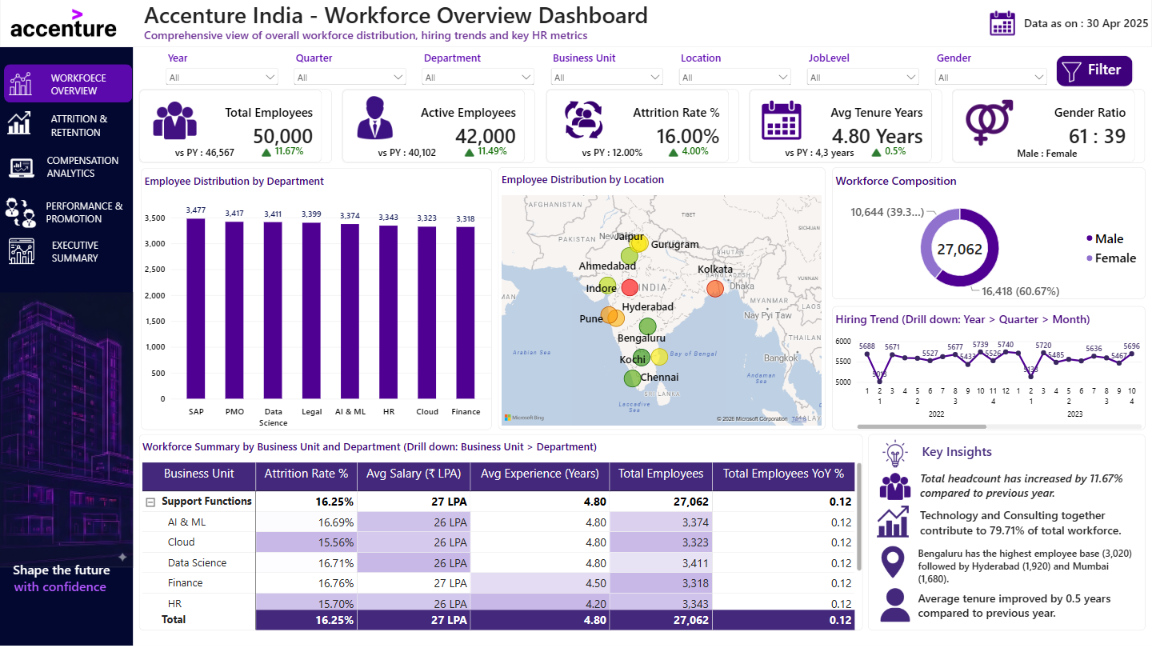

What the dashboard file says about the page in this screenshot:
{"tool":"powerbi","page":{"name":"Workforce Overview","canvas":[1920,1080],"ordinal":0},"visuals":[{"type":"shape","box":[0,0,1920,80],"z":0,"group":"g1"},{"type":"group","id":"g1","title":"base","box":[0,0,1919.7,1080.3],"z":0},{"type":"image","box":[16.9,13.8,178.5,52.3],"z":0,"group":"g15"},{"type":"slicer","fields":{"Values":["DimDate.Year"]},"box":[271.2,84.8,197,57.6],"z":0,"group":"g19"},{"type":"shape","box":[1760.6,93.9,128.8,53],"z":0,"group":"g22"},{"type":"group","id":"g2","title":"Button","box":[6.7,109.2,215.4,346.5],"z":0,"group":"g7"},{"type":"actionButton","title":"Button 1","box":[7,109.2,213.7,64],"z":0,"group":"g2"},{"type":"image","box":[9.1,122.7,50.7,38.4],"z":0,"group":"g4"},{"type":"group","id":"g3","title":"kpi 1","box":[232.3,149.2,321.5,123.1],"z":0,"group":"g24"},{"type":"cardVisual","fields":{"Data":["Measure Table.Total Employees"]},"box":[232.3,149.2,321.5,123.1],"z":0,"group":"g3"},{"type":"cardVisual","fields":{"Data":["Measure Table.Active Employees"]},"box":[571.1,149.2,321.5,123.1],"z":0,"group":"g5"},{"type":"cardVisual","fields":{"Data":["Measure Table.Attrition Rate %"]},"box":[910,149.2,321.5,123.1],"z":0,"group":"g8"},{"type":"cardVisual","fields":{"Data":["Measure Table.Avg Tenure Years"]},"box":[1248.8,149.2,321.5,123.1],"z":0,"group":"g11"},{"type":"cardVisual","fields":{"Data":["Measure Table.Gender Ratio Display"]},"box":[1587.7,149.2,321.5,123.1],"z":0,"group":"g16"},{"type":"image","box":[9.1,188.1,46.1,38.4],"z":0,"group":"g9"},{"type":"image","box":[9.1,259.4,55.3,46.1],"z":0,"group":"g12"},{"type":"image","box":[9.1,331.4,52.3,52.3],"z":0,"group":"g17"},{"type":"image","box":[9.1,399.1,55.3,43],"z":0,"group":"g20"},{"type":"image","box":[0,456.1,221.2,522.7],"z":0,"group":"g13"},{"type":"shape","box":[1447,725.8,462.1,327.3],"z":0,"group":"g23"},{"type":"image","box":[1462.2,731.9,60.6,51.5],"z":0,"group":"g6"},{"type":"image","box":[1462.2,783.4,60.6,51.5],"z":0,"group":"g10"},{"type":"image","box":[1462.1,843.7,53,54.5],"z":0,"group":"g14"},{"type":"image","box":[1462.1,911,53,56.1],"z":0,"group":"g18"},{"type":"image","box":[1460.6,982.8,63.6,56.1],"z":0,"group":"g21"},{"type":"textbox","box":[240,0,849.2,52.3],"z":1000,"group":"g15"},{"type":"shape","box":[0,80,221.5,1000],"z":1000,"group":"g1"},{"type":"slicer","fields":{"Values":["DimDate.Quarter"]},"box":[484.8,84.8,197,57.6],"z":1000,"group":"g19"},{"type":"image","box":[1760.6,104.5,53,33.3],"z":1000,"group":"g22"},{"type":"group","id":"g4","title":"PAGE 1","box":[9.1,120.7,195.8,56.7],"z":1000,"group":"g7"},{"type":"textbox","box":[85.7,120.7,119.2,56.7],"z":1000,"group":"g4"},{"type":"group","id":"g5","title":"kpi 2","box":[571.1,149.2,321.5,123.1],"z":1000,"group":"g24"},{"type":"image","box":[584.7,161.2,83.1,72.3],"z":1000,"group":"g5"},{"type":"image","box":[939.2,161.2,64.6,78.5],"z":1000,"group":"g8"},{"type":"image","box":[247.9,161.5,89.9,72.3],"z":1000,"group":"g3"},{"type":"image","box":[1609.4,165.5,81.8,78.8],"z":1000,"group":"g16"},{"type":"image","box":[1264.4,167.3,78.5,66.2],"z":1000,"group":"g11"},{"type":"actionButton","title":"Button 2","box":[8.4,181.7,213.7,64],"z":1000,"group":"g2"},{"type":"textbox","box":[85.8,190.3,119.2,56.7],"z":1000,"group":"g9"},{"type":"textbox","box":[79.8,257.7,141.4,63],"z":1000,"group":"g12"},{"type":"textbox","box":[78.2,334.6,138.4,53.8],"z":1000,"group":"g17"},{"type":"textbox","box":[87.8,399.4,119.2,56.7],"z":1000,"group":"g20"},{"type":"group","id":"g6","title":"key","box":[1462.2,731.9,216.7,51.5],"z":1000,"group":"g23"},{"type":"textbox","box":[1536.4,738,142.4,34.8],"z":1000,"group":"g6"},{"type":"textbox","box":[1533.2,785.6,371.2,68.2],"z":1000,"group":"g10"},{"type":"textbox","box":[1533.2,847.1,371.4,74.2],"z":1000,"group":"g14"},{"type":"textbox","box":[1530.2,912.8,371.4,74.2],"z":1000,"group":"g18"},{"type":"textbox","box":[21.2,934.9,174.2,33.3],"z":1000,"group":"g13"},{"type":"textbox","box":[1530.2,986.4,371.4,74.2],"z":1000,"group":"g21"},{"type":"textbox","box":[240,46.2,784.6,33.8],"z":2000,"group":"g15"},{"type":"slicer","fields":{"Values":["DimDepartment.DepartmentName"]},"box":[698.5,84.8,197,57.6],"z":2000,"group":"g19"},{"type":"textbox","box":[1813.7,100,63.6,36.4],"z":2000,"group":"g22"},{"type":"group","id":"g7","title":"pages","box":[6.7,109.2,215.4,346.8],"z":2000},{"type":"group","id":"g8","title":"kpi 3","box":[910,149.2,321.5,123.1],"z":2000,"group":"g24"},{"type":"group","id":"g9","title":"PAGE 2","box":[9.1,188.1,196,58.9],"z":2000,"group":"g7"},{"type":"textbox","box":[292.8,243,131.4,26.2],"z":2000,"group":"g3"},{"type":"textbox","box":[631.6,243,131.4,26.2],"z":2000,"group":"g5"},{"type":"textbox","box":[970.5,243,131.4,26.2],"z":2000,"group":"g8"},{"type":"textbox","box":[1309.3,243,131.4,26.2],"z":2000,"group":"g11"},{"type":"textbox","box":[1695.7,244.3,112.1,22.7],"z":2000,"group":"g16"},{"type":"actionButton","title":"Button 3","box":[6.7,250,213.7,64],"z":2000,"group":"g2"},{"type":"group","id":"g10","title":"key","box":[1462.2,783.4,442.2,70.4],"z":2000,"group":"g23"},{"type":"textbox","box":[22.7,962.2,178.8,33.3],"z":2000,"group":"g13"},{"type":"actionButton","box":[1756.7,93.3,131.7,55],"z":2500,"group":"g22"},{"type":"image","box":[1650.7,18.5,41.5,43.1],"z":3000,"group":"g15"},{"type":"slicer","fields":{"Values":["DimDepartment.Business Unit"]},"box":[912.1,84.8,197,57.6],"z":3000,"group":"g19"},{"type":"group","id":"g11","title":"kpi 4","box":[1248.8,149.2,321.5,123.1],"z":3000,"group":"g24"},{"type":"image","box":[431.1,246.1,27.7,18.5],"z":3000,"group":"g3"},{"type":"image","box":[769.9,246.1,27.7,18.5],"z":3000,"group":"g5"},{"type":"image","box":[1108.8,246.1,27.7,18.5],"z":3000,"group":"g8"},{"type":"image","box":[1447.6,246.1,27.7,18.5],"z":3000,"group":"g11"},{"type":"group","id":"g12","title":"PAGE 3","box":[9.1,257.7,212.2,63],"z":3000,"group":"g7"},{"type":"actionButton","title":"Button 4","box":[6.7,320,213.7,64],"z":3000,"group":"g2"},{"type":"group","id":"g13","title":"left side pic","box":[0,456.1,221.2,539.4],"z":3000},{"type":"group","id":"g14","title":"key","box":[1462.1,843.7,442.5,77.6],"z":3000,"group":"g23"},{"type":"group","id":"g15","title":"header section","box":[16.9,0,1903.1,80],"z":4000},{"type":"textbox","box":[1706.1,26.2,213.8,30.8],"z":4000,"group":"g15"},{"type":"slicer","fields":{"Values":["DimLocation.City"]},"box":[1125.7,84.8,197,57.6],"z":4000,"group":"g19"},{"type":"group","id":"g16","title":"kpi 4","box":[1587.7,149.2,321.5,123.1],"z":4000,"group":"g24"},{"type":"textbox","box":[458.8,241.5,64,26.2],"z":4000,"group":"g3"},{"type":"textbox","box":[797.6,241.5,64,26.2],"z":4000,"group":"g5"},{"type":"textbox","box":[1136.5,241.5,64,26.2],"z":4000,"group":"g8"},{"type":"textbox","box":[1475.3,241.5,64,26.2],"z":4000,"group":"g11"},{"type":"group","id":"g17","title":"PAGE 4","box":[9.1,331.4,207.4,57],"z":4000,"group":"g7"},{"type":"actionButton","title":"Button 5","box":[6.7,391.7,213.7,64],"z":4000,"group":"g2"},{"type":"group","id":"g18","title":"key","box":[1462.1,911,439.5,76],"z":4000,"group":"g23"},{"type":"group","id":"g19","title":"slicer","box":[271.2,84.8,1478.8,57.6],"z":5000},{"type":"slicer","fields":{"Values":["DimJobLevel.JobLevel"]},"box":[1339.4,84.8,197,57.6],"z":5000,"group":"g19"},{"type":"group","id":"g20","title":"PAGE 5","box":[9.1,399.1,197.9,57],"z":5000,"group":"g7"},{"type":"group","id":"g21","title":"key","box":[1460.6,982.8,441,77.8],"z":5000,"group":"g23"},{"type":"slicer","fields":{"Values":["DimEmployee.Gender"]},"box":[1553,84.8,197,57.6],"z":6000,"group":"g19"},{"type":"group","id":"g22","title":"filter","box":[1756.7,93.3,132.7,55],"z":6000},{"type":"clusteredColumnChart","title":"Employee Distribution by Department","fields":{"Category":["DimDepartment.DepartmentName"],"Y":["Measure Table.Total Employees"]},"box":[234.8,281.8,584.8,436.4],"z":7000},{"type":"map","title":"Employee Distribution by Location","fields":{"Category":["DimLocation.City"],"Size":["Measure Table.Total Employees"]},"box":[830.3,280.3,545.5,437.9],"z":8000},{"type":"donutChart","title":"Workforce Composition","fields":{"Category":["DimEmployee.Gender"],"Y":["Measure Table.Total Employees"]},"box":[1386.4,280.3,522.7,219.7],"z":9000},{"type":"lineChart","title":"Hiring Trend (Drill down: Year > Quarter > Month)","fields":{"Category":["DimDate.Year","DimDate.Quarter","DimDate.Month"],"Y":["Measure Table.New Hires"]},"box":[1386.4,512.1,522.7,206.1],"z":10000},{"type":"pivotTable","title":"Workforce Summary by Business Unit and Department (Drill down: Business Unit > Department)","fields":{"Rows":["DimDepartment.Business Unit","DimDepartment.DepartmentName"],"Values":["Measure Table.Attrition Rate %","Measure Table.Avg Salary (₹ LPA)","Measure Table.Avg Experience (Years)","Measure Table.Total Employees","Measure Table.Total Employees YoY %"]},"box":[231.8,725.8,1206.1,327.3],"z":11000},{"type":"group","id":"g23","title":"key insights","box":[1447,725.8,462.1,334.8],"z":12000},{"type":"group","id":"g24","title":"KPI","box":[232.3,149.2,1676.9,123.1],"z":13000}]}

Visuals, with their boxes on the page's 1920x1080 design canvas (x1, y1, x2, y2). These are canvas units, not pixel positions in the 1152x646 screenshot, which may show the page scaled, cropped or inside an application window:
shape: rect(0, 0, 1920, 80)
"base" group: rect(0, 0, 1920, 1080)
image: rect(17, 14, 195, 66)
slicer - DimDate.Year: rect(271, 85, 468, 142)
shape: rect(1761, 94, 1889, 147)
"Button" group: rect(7, 109, 222, 456)
"Button 1" actionButton: rect(7, 109, 221, 173)
image: rect(9, 123, 60, 161)
"kpi 1" group: rect(232, 149, 554, 272)
cardVisual - Measure Table.Total Employees: rect(232, 149, 554, 272)
cardVisual - Measure Table.Active Employees: rect(571, 149, 893, 272)
cardVisual - Measure Table.Attrition Rate %: rect(910, 149, 1232, 272)
cardVisual - Measure Table.Avg Tenure Years: rect(1249, 149, 1570, 272)
cardVisual - Measure Table.Gender Ratio Display: rect(1588, 149, 1909, 272)
image: rect(9, 188, 55, 226)
image: rect(9, 259, 64, 306)
image: rect(9, 331, 61, 384)
image: rect(9, 399, 64, 442)
image: rect(0, 456, 221, 979)
shape: rect(1447, 726, 1909, 1053)
image: rect(1462, 732, 1523, 783)
image: rect(1462, 783, 1523, 835)
image: rect(1462, 844, 1515, 898)
image: rect(1462, 911, 1515, 967)
image: rect(1461, 983, 1524, 1039)
textbox: rect(240, 0, 1089, 52)
shape: rect(0, 80, 222, 1080)
slicer - DimDate.Quarter: rect(485, 85, 682, 142)
image: rect(1761, 104, 1814, 138)
"PAGE 1" group: rect(9, 121, 205, 177)
textbox: rect(86, 121, 205, 177)
"kpi 2" group: rect(571, 149, 893, 272)
image: rect(585, 161, 668, 234)
image: rect(939, 161, 1004, 240)
image: rect(248, 162, 338, 234)
image: rect(1609, 166, 1691, 244)
image: rect(1264, 167, 1343, 234)
"Button 2" actionButton: rect(8, 182, 222, 246)
textbox: rect(86, 190, 205, 247)
textbox: rect(80, 258, 221, 321)
textbox: rect(78, 335, 217, 388)
textbox: rect(88, 399, 207, 456)
"key" group: rect(1462, 732, 1679, 783)
textbox: rect(1536, 738, 1679, 773)
textbox: rect(1533, 786, 1904, 854)
textbox: rect(1533, 847, 1905, 921)
textbox: rect(1530, 913, 1902, 987)
textbox: rect(21, 935, 195, 968)
textbox: rect(1530, 986, 1902, 1061)
textbox: rect(240, 46, 1025, 80)
slicer - DimDepartment.DepartmentName: rect(698, 85, 896, 142)
textbox: rect(1814, 100, 1877, 136)
"pages" group: rect(7, 109, 222, 456)
"kpi 3" group: rect(910, 149, 1232, 272)
"PAGE 2" group: rect(9, 188, 205, 247)
textbox: rect(293, 243, 424, 269)
textbox: rect(632, 243, 763, 269)
textbox: rect(970, 243, 1102, 269)
textbox: rect(1309, 243, 1441, 269)
textbox: rect(1696, 244, 1808, 267)
"Button 3" actionButton: rect(7, 250, 220, 314)
"key" group: rect(1462, 783, 1904, 854)
textbox: rect(23, 962, 202, 996)
actionButton: rect(1757, 93, 1888, 148)
image: rect(1651, 18, 1692, 62)
slicer - DimDepartment.Business Unit: rect(912, 85, 1109, 142)
"kpi 4" group: rect(1249, 149, 1570, 272)
image: rect(431, 246, 459, 265)
image: rect(770, 246, 798, 265)
image: rect(1109, 246, 1136, 265)
image: rect(1448, 246, 1475, 265)
"PAGE 3" group: rect(9, 258, 221, 321)
"Button 4" actionButton: rect(7, 320, 220, 384)
"left side pic" group: rect(0, 456, 221, 996)
"key" group: rect(1462, 844, 1905, 921)
"header section" group: rect(17, 0, 1920, 80)
textbox: rect(1706, 26, 1920, 57)
slicer - DimLocation.City: rect(1126, 85, 1323, 142)
"kpi 4" group: rect(1588, 149, 1909, 272)
textbox: rect(459, 242, 523, 268)
textbox: rect(798, 242, 862, 268)
textbox: rect(1136, 242, 1200, 268)
textbox: rect(1475, 242, 1539, 268)
"PAGE 4" group: rect(9, 331, 216, 388)
"Button 5" actionButton: rect(7, 392, 220, 456)
"key" group: rect(1462, 911, 1902, 987)
"slicer" group: rect(271, 85, 1750, 142)
slicer - DimJobLevel.JobLevel: rect(1339, 85, 1536, 142)
"PAGE 5" group: rect(9, 399, 207, 456)
"key" group: rect(1461, 983, 1902, 1061)
slicer - DimEmployee.Gender: rect(1553, 85, 1750, 142)
"filter" group: rect(1757, 93, 1889, 148)
"Employee Distribution by Department" clusteredColumnChart: rect(235, 282, 820, 718)
"Employee Distribution by Location" map: rect(830, 280, 1376, 718)
"Workforce Composition" donutChart: rect(1386, 280, 1909, 500)
"Hiring Trend (Drill down: Year > Quarter > Month)" lineChart: rect(1386, 512, 1909, 718)
"Workforce Summary by Business Unit and Department (Drill down: Business Unit > Department)" pivotTable: rect(232, 726, 1438, 1053)
"key insights" group: rect(1447, 726, 1909, 1061)
"KPI" group: rect(232, 149, 1909, 272)
